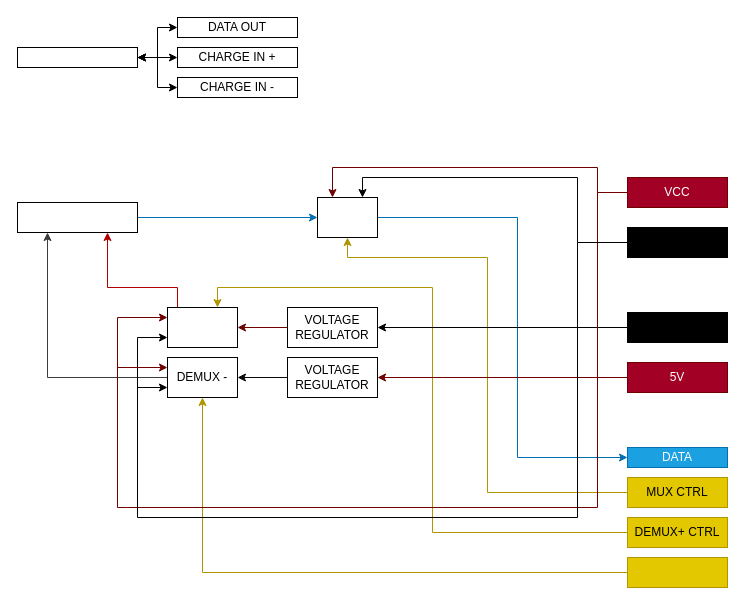
Some shapes in this 745 by 605 pixel diagram are drawn without their labels. Each missing label, with the box of its shape:
DEMUX +: (166, 306, 238, 348)
DEMUX- CTRL: (626, 556, 728, 588)
Electrode Wire: (16, 46, 138, 68)
ELECTRODES IN: (16, 202, 138, 232)
MUX: (316, 196, 378, 238)
